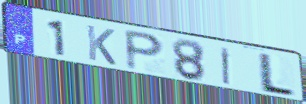1: (45, 20, 67, 58)
8: (171, 37, 208, 83)
I: (219, 45, 232, 87)
K: (84, 23, 119, 68)
L: (257, 52, 298, 99)
P: (123, 27, 167, 73)
